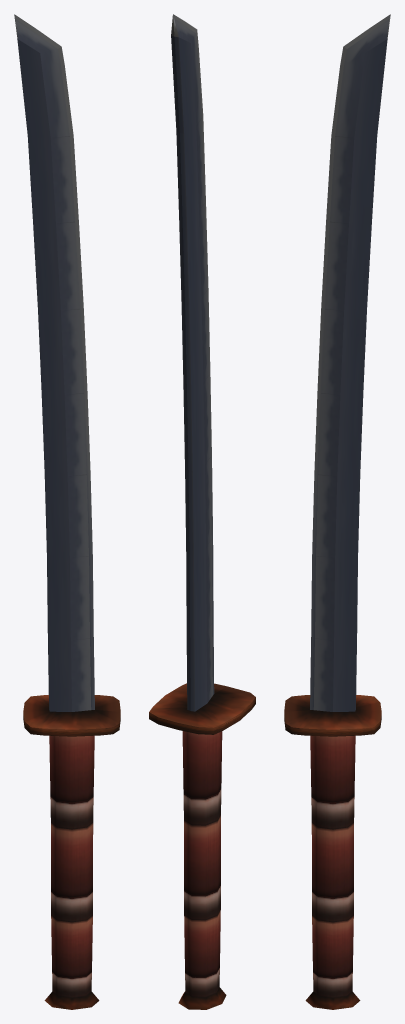
The model's file is ninjablade.FBX.
3 renders of one model, left to right at view 1: azimuth 90°, elevation 25°; view 2: azimuth 150°, elevation 25°; view 3: azimuth 270°, elevation 25°, orthographic. The views are drawn at different scales.
Parts seen in each view (by area): view 1: Box001; view 2: Box001; view 3: Box001.
Boxes of the visible parts, x1,y1,x2,y2 form: Box001: [14, 14, 120, 1009]; Box001: [149, 14, 255, 1009]; Box001: [284, 14, 390, 1009].
Size of the model in its own units: 0.0798 by 1.03 by 0.1006.
Materials: 1 (1 with a texture image).
